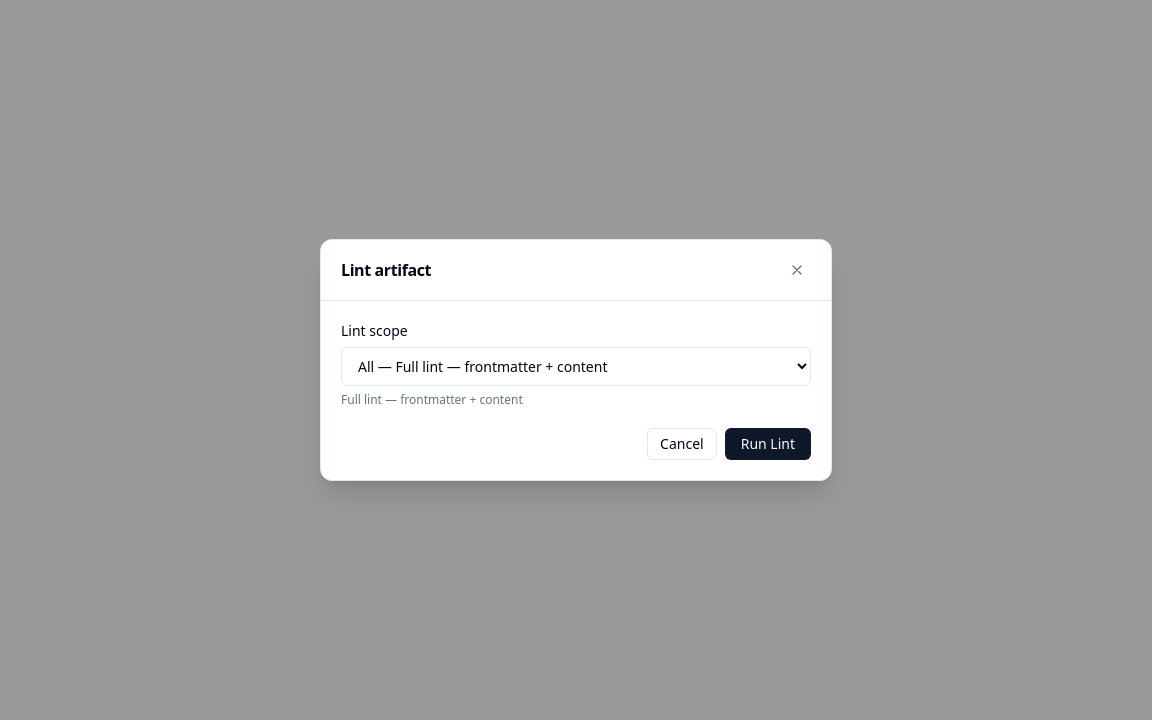
Test: LintScopeModal (P2-S1 seam test) › Success path — results panel › renders 'no violations' message on a clean run
Click the button "Run Lint". click: {"x": 768, "y": 444}
box: [725,428,811,460]
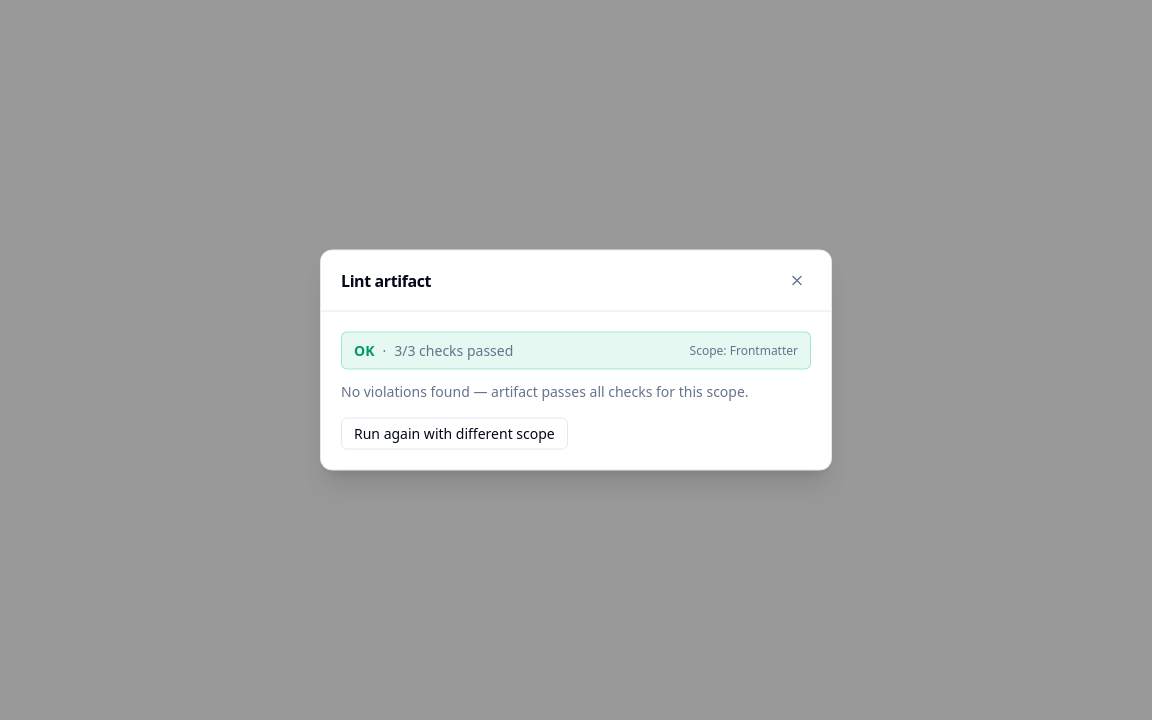
Result: the text "No violations found" is shown at [341,382,749,400]
